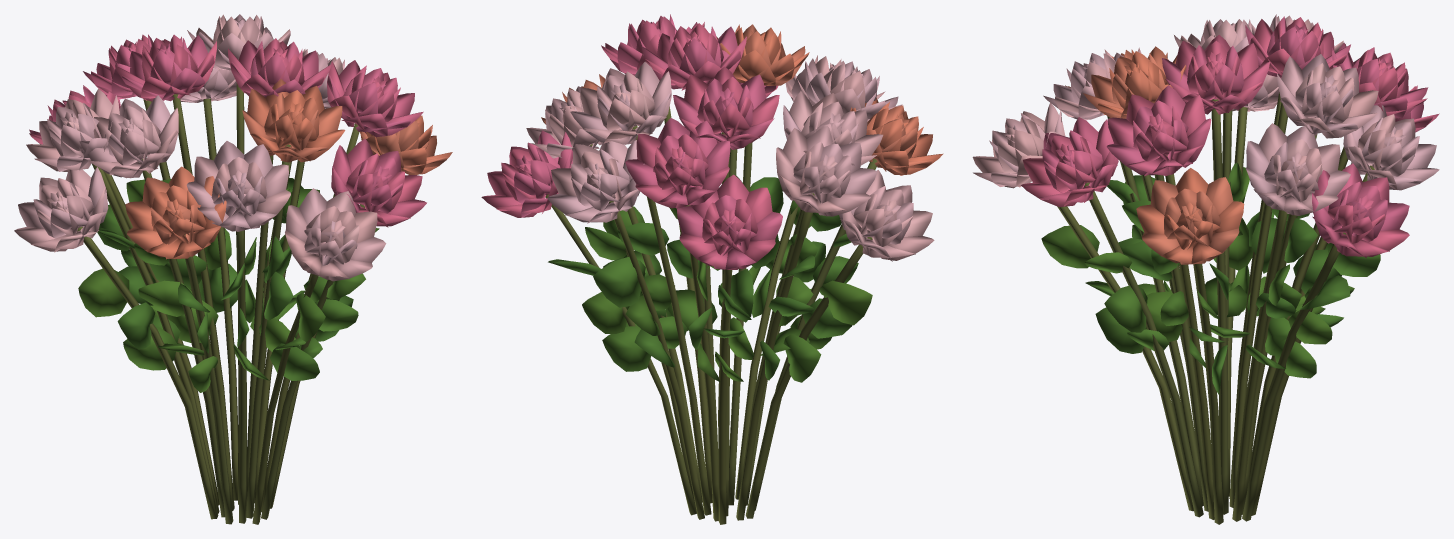
The model's file is bucket_ranunculus.glb.
The picture shows the model from 3 angles, left to right: view 1: azimuth 30°, elevation 25°; view 2: azimuth 150°, elevation 25°; view 3: azimuth 270°, elevation 25°; orthographic projection. The views are drawn at different scales.
Parts seen in each view (by area): view 1: Sammel Pflanze, Sammel Putz; view 2: Sammel Pflanze, Sammel Putz; view 3: Sammel Pflanze, Sammel Putz.
Part boxes in pixels (bbox=[...]): Sammel Pflanze: bbox=[14, 14, 452, 392]; Sammel Putz: bbox=[77, 83, 364, 524]; Sammel Pflanze: bbox=[481, 14, 943, 382]; Sammel Putz: bbox=[545, 106, 877, 524]; Sammel Pflanze: bbox=[972, 14, 1439, 394]; Sammel Putz: bbox=[1057, 92, 1374, 524].
Bounding box in the file's own units: 0.4462 × 0.4986 × 0.4416.
